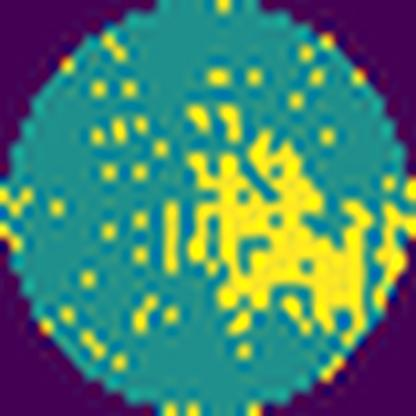Loc: (191, 130, 365, 332)
